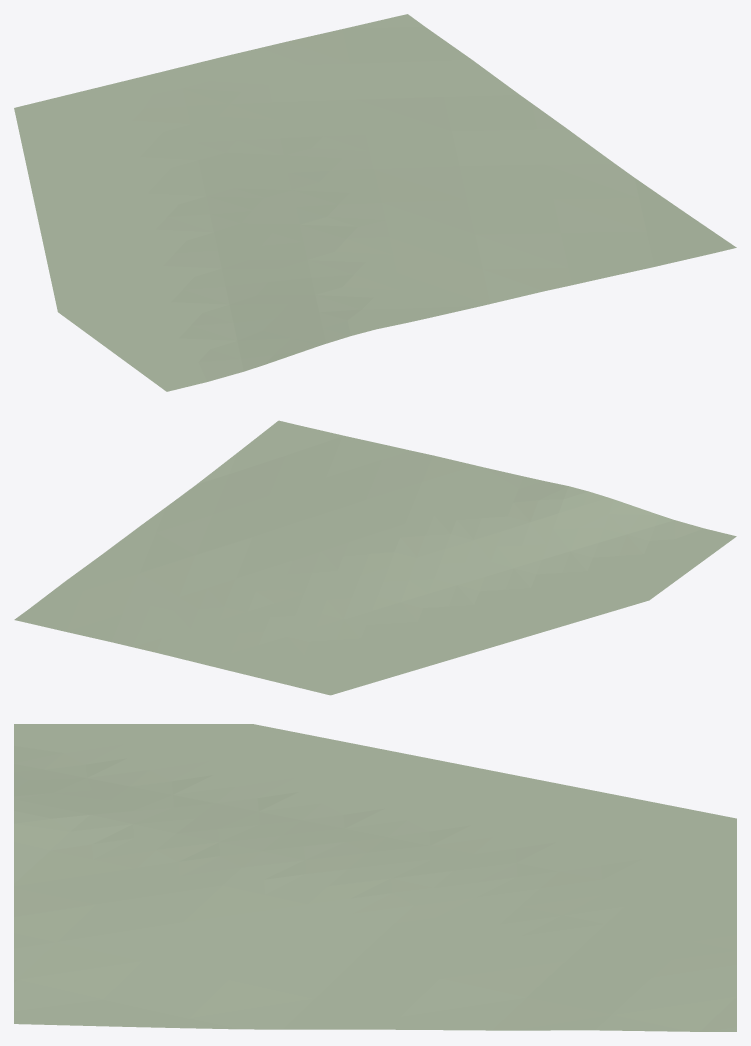
File: SM_MPRR_Terrain_-5_-1.fbx
The picture shows the model from 3 angles, top to bottom: view 1: azimuth 30°, elevation 25°; view 2: azimuth 150°, elevation 25°; view 3: azimuth 270°, elevation 25°; orthographic projection. The views are drawn at different scales.
Parts seen in each view (by area): view 1: SM_MPRR_Terrain_-5_-1; view 2: SM_MPRR_Terrain_-5_-1; view 3: SM_MPRR_Terrain_-5_-1.
Boxes of the visible parts, x1,y1,x2,y2 form: SM_MPRR_Terrain_-5_-1: (14,14,736,391); SM_MPRR_Terrain_-5_-1: (14,420,736,695); SM_MPRR_Terrain_-5_-1: (14,724,736,1031).
Bounding box in the file's own units: 15000 × 15000 × 342.
